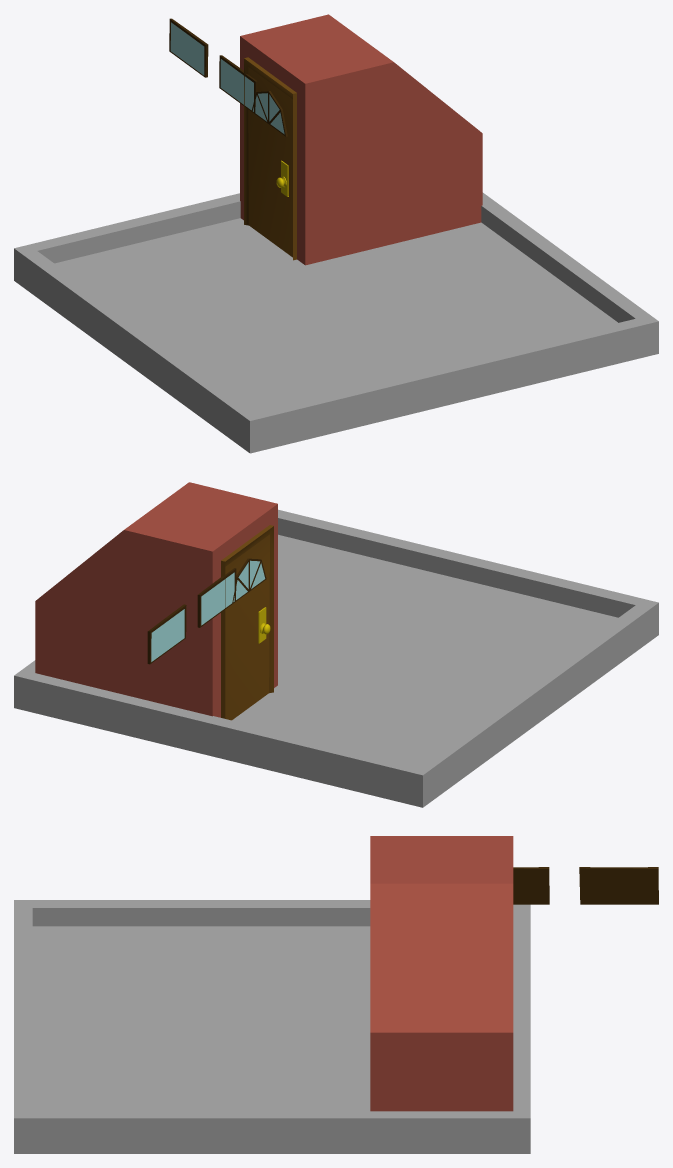
File: RoofV3.fbx
3 views of the same model, one above another, from view 1: azimuth 30°, elevation 25°; view 2: azimuth 150°, elevation 25°; view 3: azimuth 270°, elevation 25° (orthographic). The views are drawn at different scales.
Visible parts, largest first — view 1: pCube10, pCube27, pasted__pCube3, pasted__pCylinder1 (×2), pasted__pCylinder3; view 2: pCube10, pCube27, pasted__pCube3, pasted__pCylinder1 (×2), pasted__pCylinder3; view 3: pCube10, pCube27, pasted__pCylinder3, pasted__pCylinder1.
Boxes of the visible parts, left/top/right/bottom form: pCube10: left=14, top=192, right=658, bottom=453; pCube27: left=240, top=14, right=482, bottom=265; pasted__pCube3: left=244, top=57, right=296, bottom=260; pasted__pCylinder1 (×2): left=219, top=55, right=287, bottom=136; pasted__pCylinder3: left=169, top=18, right=208, bottom=77; pCube10: left=14, top=509, right=658, bottom=807; pCube27: left=35, top=482, right=277, bottom=717; pasted__pCube3: left=221, top=525, right=273, bottom=720; pasted__pCylinder1 (×2): left=197, top=558, right=266, bottom=627; pasted__pCylinder3: left=147, top=604, right=186, bottom=664; pCube10: left=14, top=900, right=530, bottom=1153; pCube27: left=370, top=836, right=513, bottom=1111; pasted__pCylinder3: left=579, top=867, right=658, bottom=904; pasted__pCylinder1: left=513, top=867, right=549, bottom=904.
Size of the model in its own units: 27.28 by 12.58 by 34.06.
